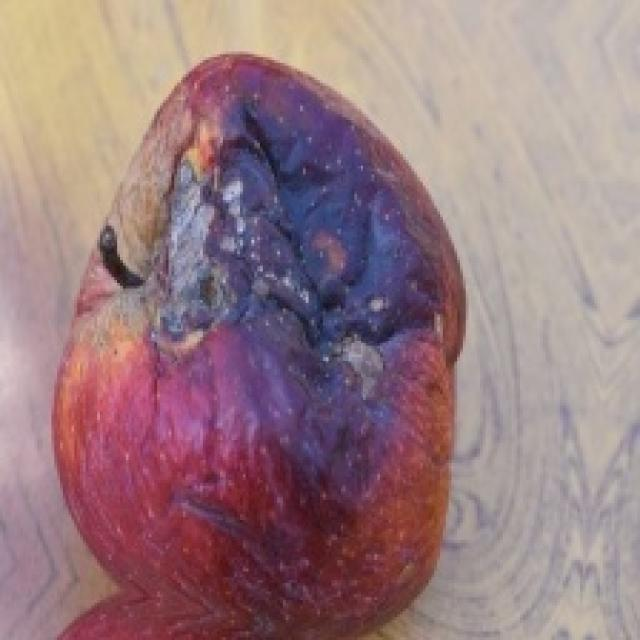rotten_apple: (58, 52, 462, 615)
